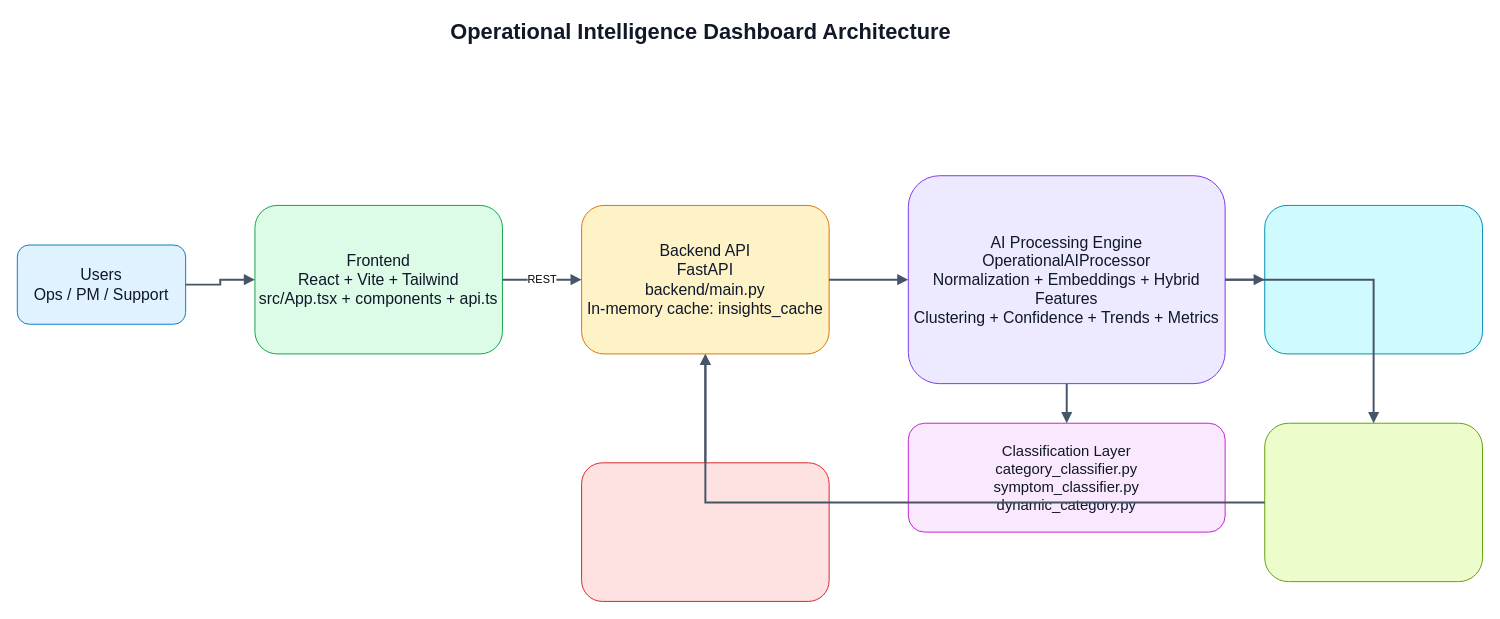
Image size: 1500x619. Some labels were removed from this diagram. The centre of each missing label's shape, as x and y in pixels:
"Data Sources backend/poc_tickets.json backend/ground_truth.py backend/config.py" belongs at point 705,531.
"ML / AI Models SentenceTransformer DBSCAN / HDBSCAN PCA + similarity scoring" belongs at point 1373,279.
"Outputs Insights API Clusters Duplicate checks Jira draft Manual cluster actions" belongs at point 1373,502.
